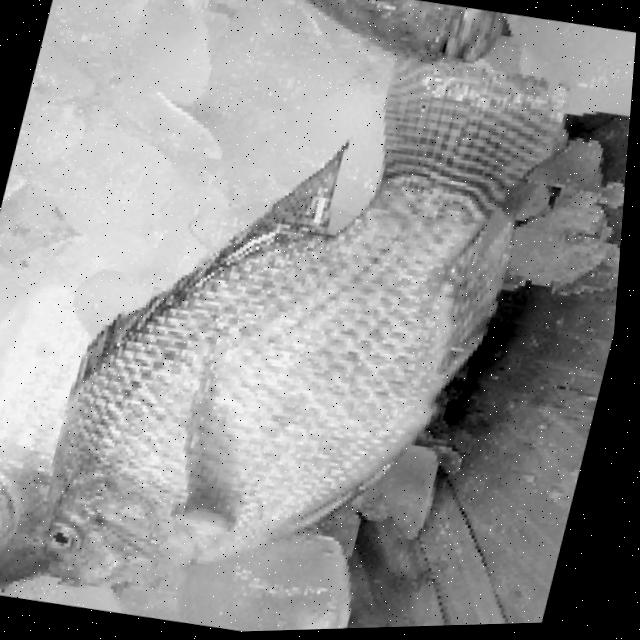Fresh: (8, 188, 450, 639), (339, 0, 429, 25)
